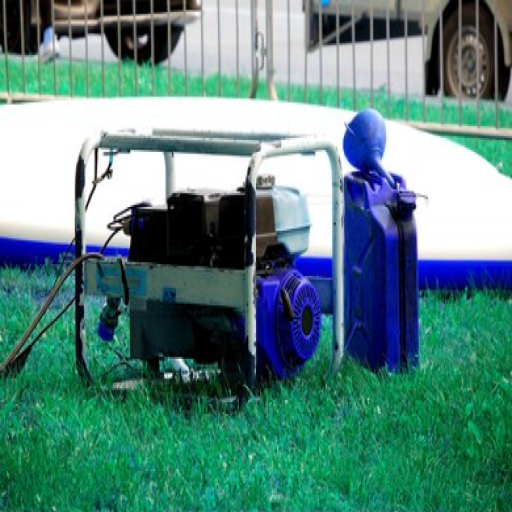portable_generator: (74, 128, 346, 411)
